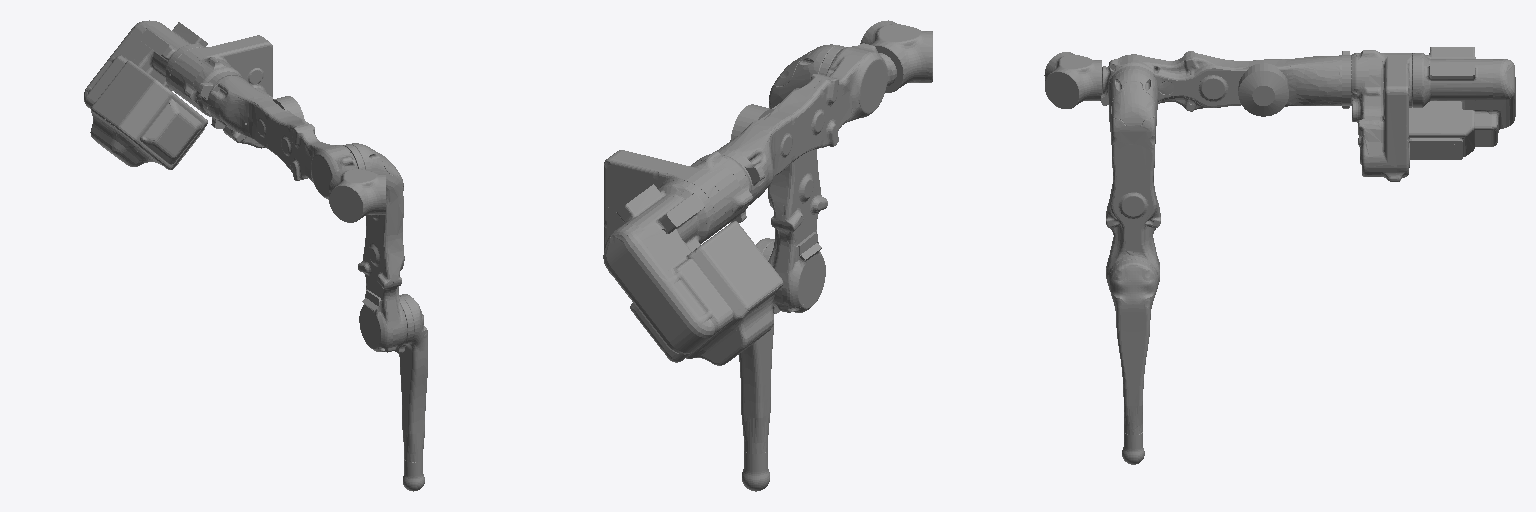
The robot description file, URDF, robot "fingerpro":
<?xml version="1.0" encoding="utf-8"?>
<!-- =================================================================================== -->
<!-- |    This document was autogenerated by xacro from [local-path]/ws/fingers/workspace/src/catkin/robots/robot_properties/robot_properties_fingers/xacro/pro/fingerpro.urdf.xacro | -->
<!-- |    EDITING THIS FILE BY HAND IS NOT RECOMMENDED                                 | -->
<!-- =================================================================================== -->
<robot name="fingerpro">
  <!--
    Frames are defined such that they all align with the base frame when all
    joints are at position zero.

    In zero-configuration the origins of all joints are in one line.

    In zero-configuration the origin of the base link is exactly above the
    finger tip which should make it easy to place the finger in the world.
    -->
  <!--
    Frames are defined such that they all align with the base frame when all
    joints are at position zero.

    In zero-configuration the origins of all joints are in one line.

    In zero-configuration the origin of the base link is exactly above the
    finger tip which should make it easy to place the finger in the world.
    -->
  <material name="finger_material">
    <color rgba="0.6 0.6 0.6 1.0"/>
  </material>
  <!--
        Fixed links for the finger base (parts where the upper link is mounted).
        Note: Link Frames already coincide with the joint location
        -->
  <link name="finger_base_link">
    <visual>
      <origin rpy="0 0 0" xyz="0 0.23295 0"/>
      <geometry>
        <mesh filename="package://robot_properties_fingers/meshes/stl/pro/SIM__BL-Finger_Base.stl" scale="1.0 1.0 1.0"/>
      </geometry>
      <material name="finger_material"/>
    </visual>
    <collision>
      <origin rpy="0 0 0" xyz="0 0.23295 0"/>
      <geometry>
        <mesh filename="package://robot_properties_fingers/meshes/stl/pro/SIM__BL-Finger_Base.stl" scale="1.0 1.0 1.0"/>
      </geometry>
    </collision>
    <inertial>
      <origin rpy="0 0 0" xyz="0 0 0"/>
      <mass value="1"/>
      <inertia ixx="0.000416666666667" ixy="0" ixz="0" iyy="0.000416666666667" iyz="0" izz="0.000416666666667"/>
    </inertial>
  </link>
  <link name="finger_upper_link">
    <visual>
      <origin rpy="0 0 0" xyz="0 0.0235 0"/>
      <geometry>
        <mesh filename="package://robot_properties_fingers/meshes/stl/pro/SIM__BL-Finger_Proximal.stl" scale="1.0 1.0 1.0"/>
      </geometry>
      <material name="finger_material"/>
    </visual>
    <collision>
      <origin rpy="0 0 0" xyz="0 0.0235 0"/>
      <geometry>
        <mesh filename="package://robot_properties_fingers/meshes/stl/pro/SIM__BL-Finger_Proximal.stl" scale="1.0 1.0 1.0"/>
      </geometry>
    </collision>
    <inertial>
      <origin rpy="0 0 0" xyz="0 0.06 0"/>
      <mass value="0.2"/>
      <inertia ixx="0.000353333333333" ixy="0" ixz="0" iyy="5.33333333333e-05" iyz="0" izz="0.000353333333333"/>
    </inertial>
  </link>
  <link name="finger_middle_link">
    <visual>
      <origin rpy="1.57079632679 0 0" xyz="0 0 0"/>
      <geometry>
        <mesh filename="package://robot_properties_fingers/meshes/stl/pro/SIM__BL-Finger_Intermediate.stl" scale="1.0 1.0 1.0"/>
      </geometry>
      <material name="finger_material"/>
    </visual>
    <collision>
      <origin rpy="1.57079632679 0 0" xyz="0 0 0"/>
      <geometry>
        <mesh filename="package://robot_properties_fingers/meshes/stl/pro/SIM__BL-Finger_Intermediate.stl" scale="1.0 1.0 1.0"/>
      </geometry>
    </collision>
    <inertial>
      <origin rpy="0 0 0" xyz="0.028 0 -0.08"/>
      <mass value="0.2"/>
      <inertia ixx="0.000353333333333" ixy="0" ixz="0" iyy="0.000353333333333" iyz="0" izz="5.33333333333e-05"/>
    </inertial>
  </link>
  <link name="finger_lower_link">
    <visual>
      <origin rpy="1.57079632679 0 0" xyz="0 0 0"/>
      <geometry>
        <mesh filename="package://robot_properties_fingers/meshes/stl/pro/SIM__BL-Finger_Tip.stl" scale="1.0 1.0 1.0"/>
      </geometry>
      <material name="finger_material"/>
    </visual>
    <collision>
      <origin rpy="1.57079632679 0 0" xyz="0 0 0"/>
      <geometry>
        <mesh filename="package://robot_properties_fingers/meshes/stl/pro/SIM__BL-Finger_Tip.stl" scale="1.0 1.0 1.0"/>
      </geometry>
    </collision>
    <inertial>
      <origin rpy="0 0 0" xyz="0 0 -0.06"/>
      <mass value="0.01"/>
      <inertia ixx="1.66666666667e-05" ixy="0" ixz="0" iyy="1.66666666667e-05" iyz="0" izz="6.66666666667e-07"/>
    </inertial>
  </link>
  <!-- fixed link for finger tip -->
  <link name="finger_tip_link">
    <inertial>
      <origin rpy="0 0 0" xyz="0 0 0"/>
      <mass value="0.02"/>
      <inertia ixx="3.33333333333e-07" ixy="0" ixz="0" iyy="3.33333333333e-07" iyz="0" izz="3.33333333333e-07"/>
    </inertial>
  </link>
  <joint name="finger_lower_to_tip_joint" type="fixed">
    <parent link="finger_lower_link"/>
    <child link="finger_tip_link"/>
    <origin xyz="0.0185 0 -0.16"/>
  </joint>
  <!-- kinematics -->
  <!-- NOTE: Joint limits are set according to soft limits in the
             configuration of the real robot (i.e. not according to physical
             limits). -->
  <joint name="finger_base_to_upper_joint" type="revolute">
    <parent link="finger_base_link"/>
    <child link="finger_upper_link"/>
    <limit effort="1000" lower="-0.9" upper="1.4" velocity="1000"/>
    <axis xyz="0 1 0"/>
    <origin rpy="0 0 0" xyz="0 0 0"/>
  </joint>
  <joint name="finger_upper_to_middle_joint" type="revolute">
    <parent link="finger_upper_link"/>
    <child link="finger_middle_link"/>
    <limit effort="1000" lower="-1.57" upper="1.57" velocity="1000"/>
    <axis xyz="1 0 0"/>
    <origin rpy="0 0 0" xyz="0.01685 0.0505 0"/>
  </joint>
  <joint name="finger_middle_to_lower_joint" type="revolute">
    <parent link="finger_middle_link"/>
    <child link="finger_lower_link"/>
    <limit effort="1000" lower="-2.7" upper="2.7" velocity="1000"/>
    <axis xyz="1 0 0"/>
    <origin rpy="0 0 0" xyz="0.04922 0 -0.16"/>
  </joint>
  <!--
    Define the global base link and place the finger relative to it.
    Note: Here I've used the center point of the center piece as the origin 
    -->
  <link name="center_link">
    <visual>
      <origin rpy="0 0 0" xyz="0 0 0"/>
      <geometry>
        <mesh filename="package://robot_properties_fingers/meshes/stl/pro/SIM__BL-Finger_Center.stl" scale="1.0 1.0 1.0"/>
      </geometry>
      <material name="finger_material"/>
    </visual>
    <collision>
      <origin rpy="0 0 0" xyz="0 0 0"/>
      <geometry>
        <mesh filename="package://robot_properties_fingers/meshes/stl/pro/SIM__BL-Finger_Center.stl" scale="1.0 1.0 1.0"/>
      </geometry>
    </collision>
    <inertial>
      <origin rpy="0 0 0" xyz="0 0 0"/>
      <mass value="1"/>
      <inertia ixx="4.16666666667e-06" ixy="0" ixz="0" iyy="4.16666666667e-06" iyz="0" izz="4.16666666667e-06"/>
    </inertial>
  </link>
  <joint name="base_to_finger" type="fixed">
    <parent link="center_link"/>
    <child link="finger_base_link"/>
    <origin xyz="0 0 0"/>
  </joint>
</robot>

--- Render facts (derived) ---
Views: 3 orthographic renders of the robot side by side, from view 1: azimuth 30°, elevation 25°; view 2: azimuth 150°, elevation 25°; view 3: azimuth 270°, elevation 25°.
Robot: fingerpro — 6 links, 5 joints (3 revolute, 2 fixed); root link center_link; default pose: all joints at 0.
Visible links, largest first — view 1: finger_base_link, finger_upper_link, finger_middle_link, finger_lower_link, center_link; view 2: finger_base_link, finger_upper_link, finger_middle_link, finger_lower_link, center_link; view 3: finger_base_link, finger_upper_link, finger_middle_link, finger_lower_link, center_link.
Link boxes in pixels (bbox=[...]): finger_base_link: bbox=[84, 20, 272, 169]; finger_upper_link: bbox=[207, 75, 357, 199]; finger_middle_link: bbox=[343, 143, 407, 352]; finger_lower_link: bbox=[395, 294, 427, 491]; center_link: bbox=[329, 166, 385, 222]; finger_base_link: bbox=[603, 150, 783, 365]; finger_upper_link: bbox=[717, 43, 896, 204]; finger_middle_link: bbox=[768, 44, 845, 312]; finger_lower_link: bbox=[739, 238, 779, 491]; center_link: bbox=[860, 20, 932, 92]; finger_base_link: bbox=[1342, 47, 1515, 181]; finger_upper_link: bbox=[1102, 51, 1341, 116]; finger_middle_link: bbox=[1100, 66, 1160, 284]; finger_lower_link: bbox=[1108, 256, 1158, 464]; center_link: bbox=[1044, 52, 1101, 108].
Bounding box of the posed robot: 0.1724 × 0.4112 × 0.3587 m (x, y, z).
5 mesh visuals loaded from 5 distinct referenced files (5 binary STL).